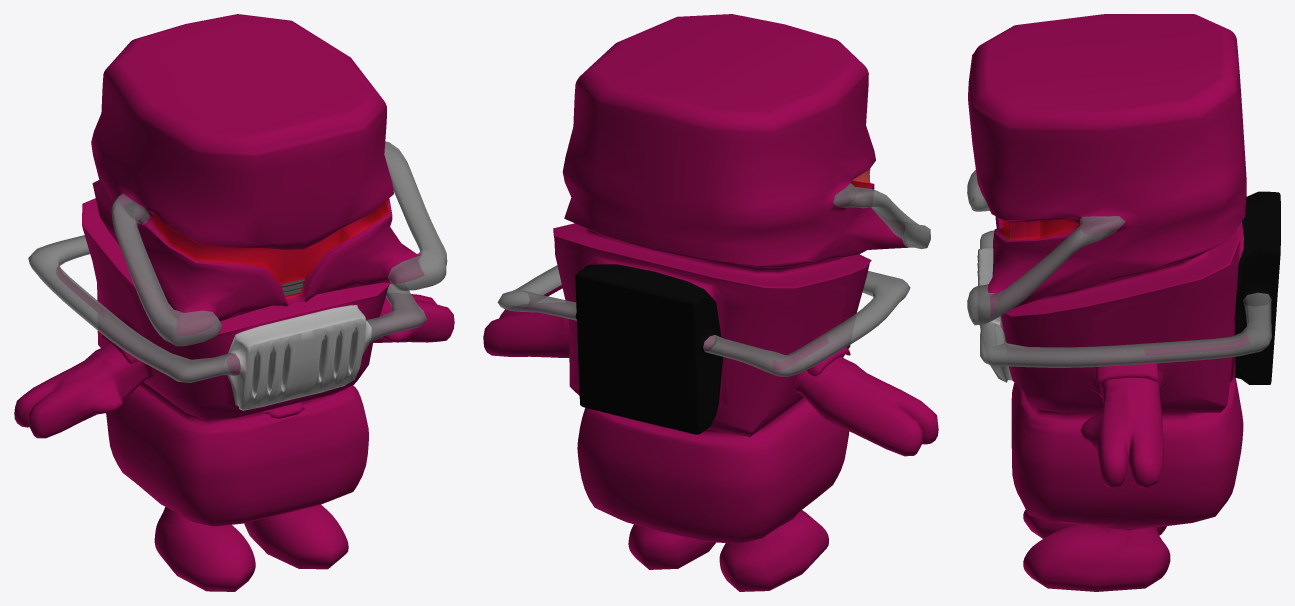
File: enemy.fbx
3 renders of one model, left to right at view 1: azimuth 30°, elevation 25°; view 2: azimuth 150°, elevation 25°; view 3: azimuth 270°, elevation 25°, orthographic. The views are drawn at different scales.
Parts seen in each view (by area): view 1: enemy; view 2: enemy; view 3: enemy.
Part boxes in pixels (x1,y1,x2,y2): enemy: [14, 14, 454, 591]; enemy: [483, 14, 938, 591]; enemy: [967, 14, 1280, 591].
Size of the model in its own units: 1.92 by 2.14 by 1.19.
